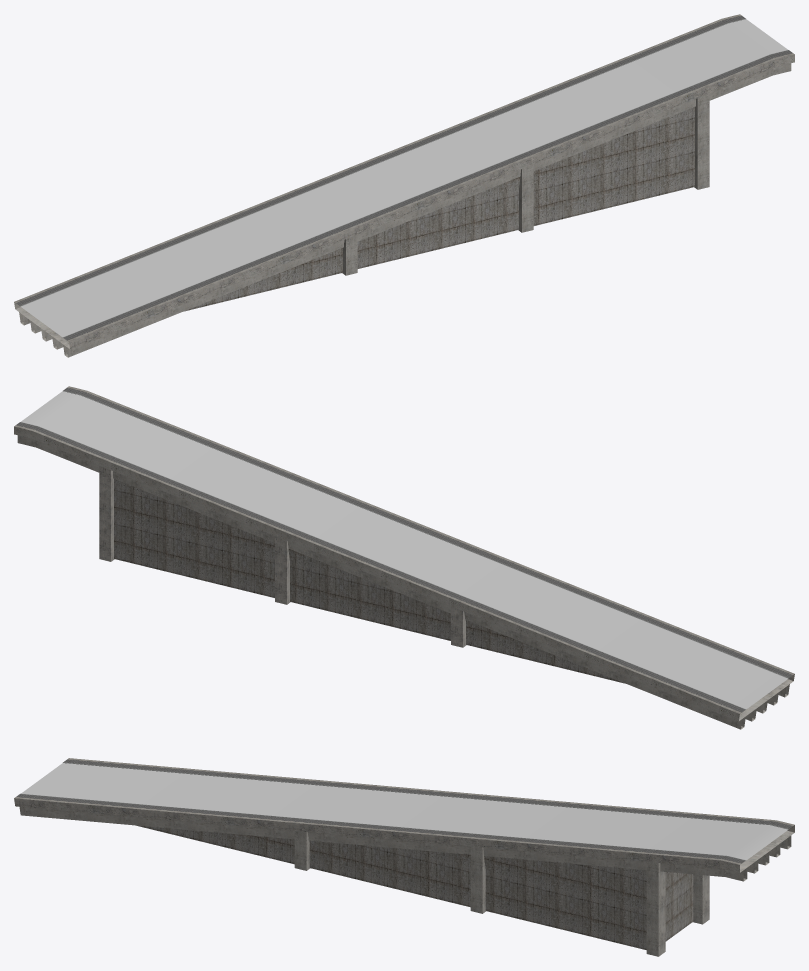
File: mroad1.FBX
3 renders of one model, top to bottom at view 1: azimuth 30°, elevation 25°; view 2: azimuth 150°, elevation 25°; view 3: azimuth 330°, elevation 25°, orthographic.
Visible parts, largest first — view 1: polySurface2013; view 2: polySurface2013; view 3: polySurface2013.
Part boxes in pixels (x1,y1,x2,y2): polySurface2013: (14, 14, 794, 357); polySurface2013: (14, 386, 794, 729); polySurface2013: (14, 758, 794, 956).
Size of the model in its own units: 39.02 by 6.66 by 5.12.
